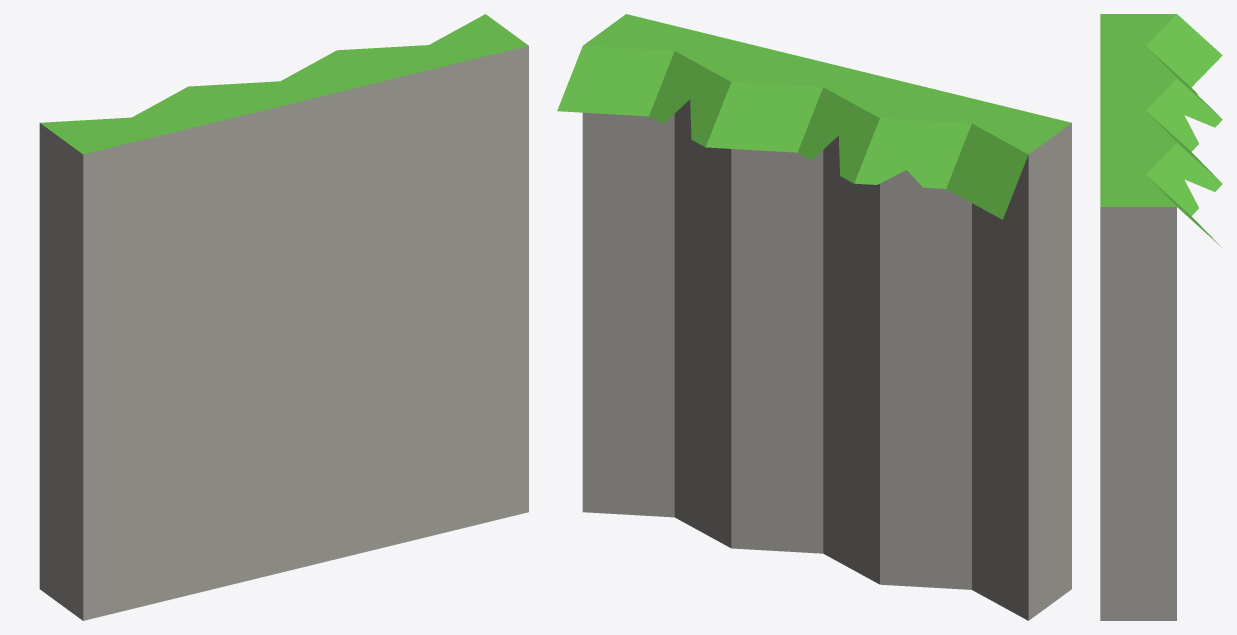
The model's file is cliff_top_stone.glb.
3 views of the same model, side by side, from view 1: azimuth 30°, elevation 25°; view 2: azimuth 150°, elevation 25°; view 3: azimuth 270°, elevation 25° (orthographic). The views are drawn at different scales.
Parts seen in each view (by area): view 1: cliff_top_stone; view 2: cliff_top_stone; view 3: cliff_top_stone.
Part boxes in pixels (<box>): cliff_top_stone: <box>39,14,528,620</box>; cliff_top_stone: <box>557,14,1071,620</box>; cliff_top_stone: <box>1100,14,1222,620</box>.
Size of the model in its own units: 1 by 1 by 0.2685.
